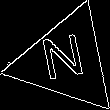N_S: (41, 32, 91, 90)
